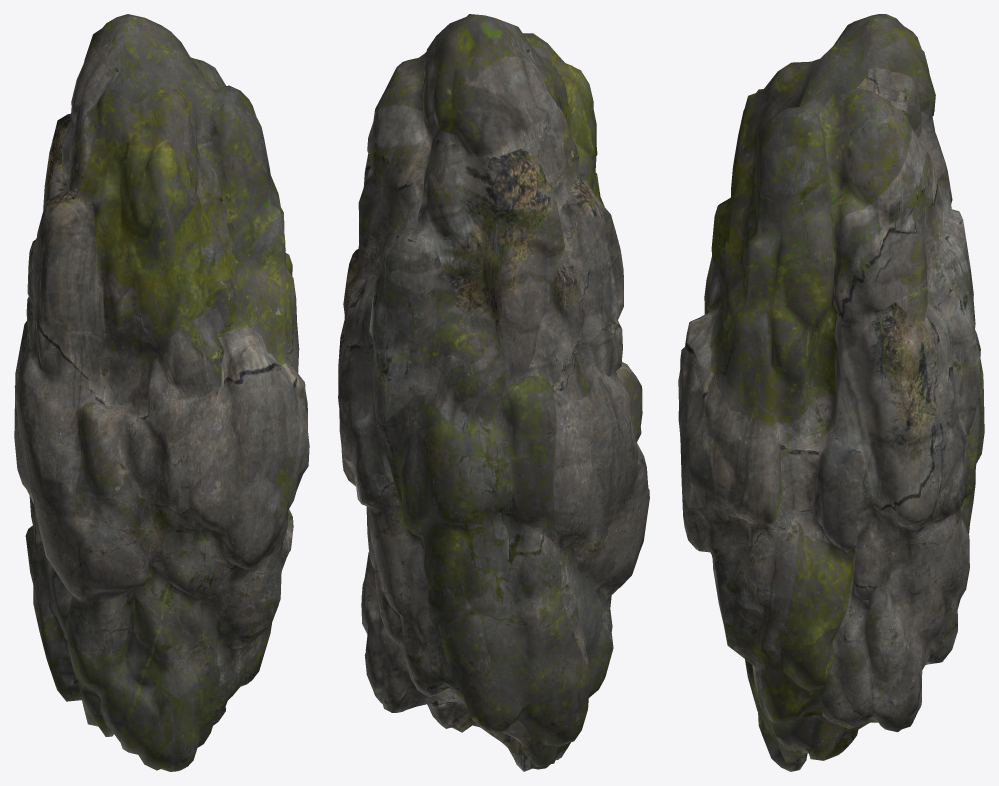
File: Rock9.fbx
3 views of the same model, side by side, from view 1: azimuth 30°, elevation 25°; view 2: azimuth 150°, elevation 25°; view 3: azimuth 270°, elevation 25° (orthographic). The views are drawn at different scales.
Visible parts, largest first — view 1: LV_Veolan_Rock_GriffonRock01_SM_YCY; view 2: LV_Veolan_Rock_GriffonRock01_SM_YCY; view 3: LV_Veolan_Rock_GriffonRock01_SM_YCY.
Boxes of the visible parts, x1,y1,x2,y2 form: LV_Veolan_Rock_GriffonRock01_SM_YCY: (14,14,309,771); LV_Veolan_Rock_GriffonRock01_SM_YCY: (338,14,649,771); LV_Veolan_Rock_GriffonRock01_SM_YCY: (678,14,984,771).
Size of the model in its own units: 5.21 by 14.85 by 5.47.
1 material, 1 textured.
